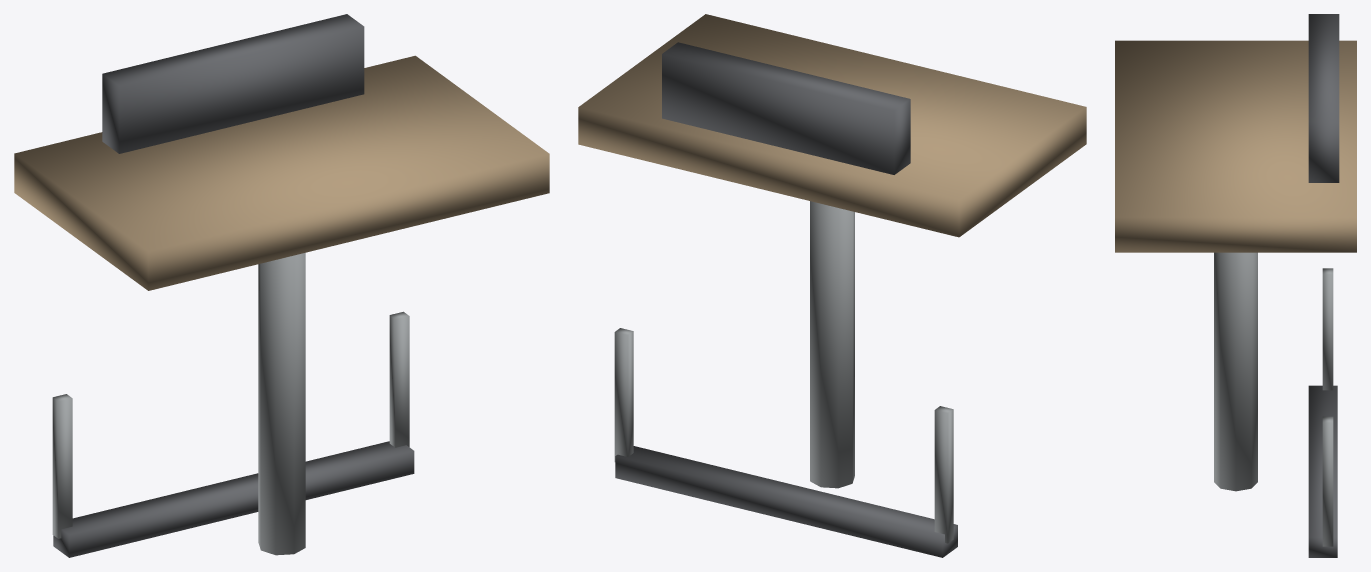
Rendered from deposit_desk__reinforced.glb.
3 views of the same model, side by side, from view 1: azimuth 30°, elevation 25°; view 2: azimuth 150°, elevation 25°; view 3: azimuth 270°, elevation 25° (orthographic). The views are drawn at different scales.
Visible parts, largest first — view 1: world; view 2: world; view 3: world.
Boxes of the visible parts, <box> form: world: <box>14,14,549,557</box>; world: <box>578,14,1086,557</box>; world: <box>1115,14,1356,557</box>.
Size of the model in its own units: 0.9785 by 1.07 by 0.5665.
